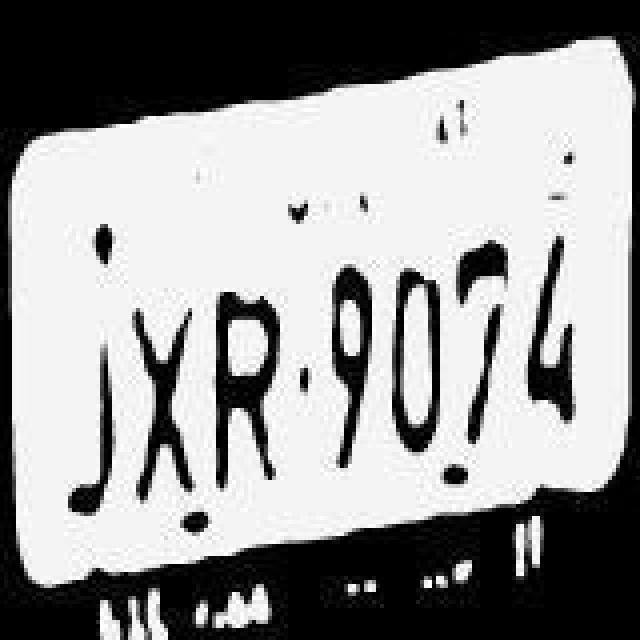4: (516, 214, 588, 458)
7: (448, 232, 512, 456)
9: (320, 234, 384, 486)
J: (60, 310, 132, 530)
O: (384, 252, 448, 468)
R: (214, 262, 298, 498)
X: (140, 284, 212, 508)
